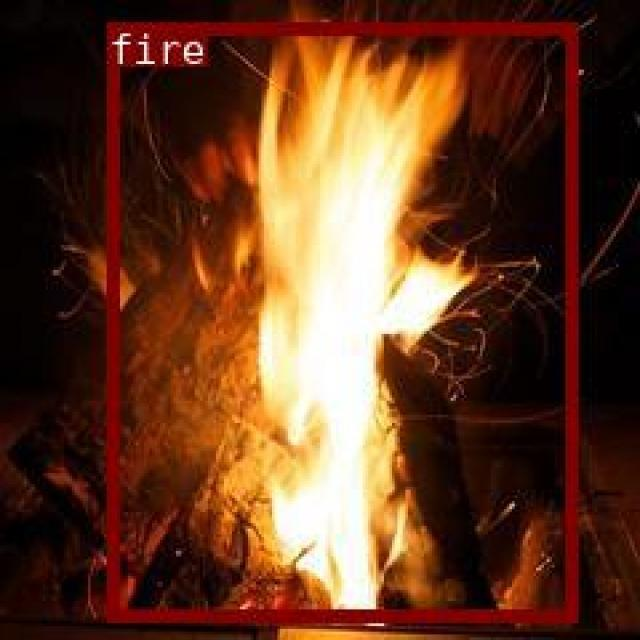fire: (105, 21, 575, 620)
